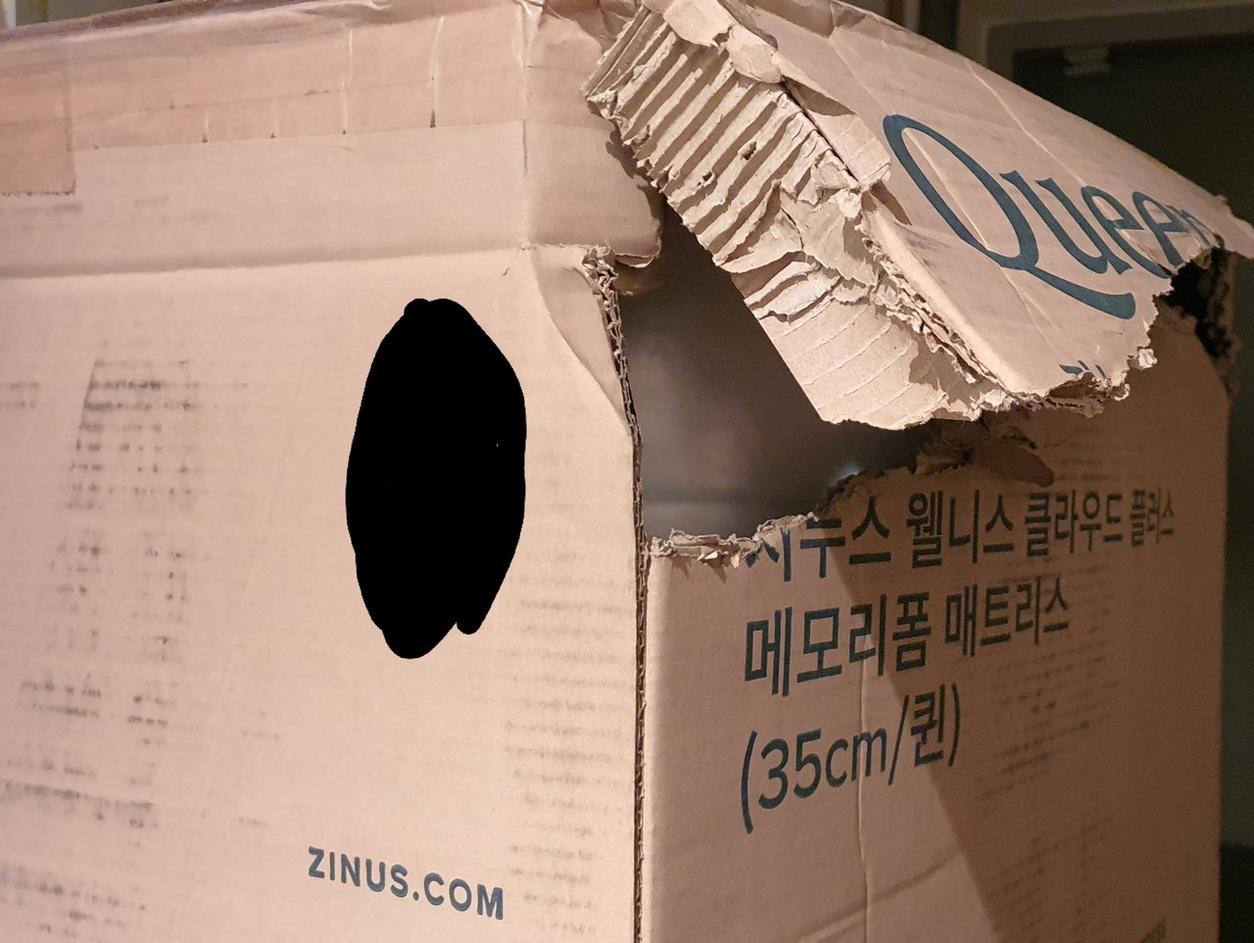damaged package: (502, 0, 1253, 569)
